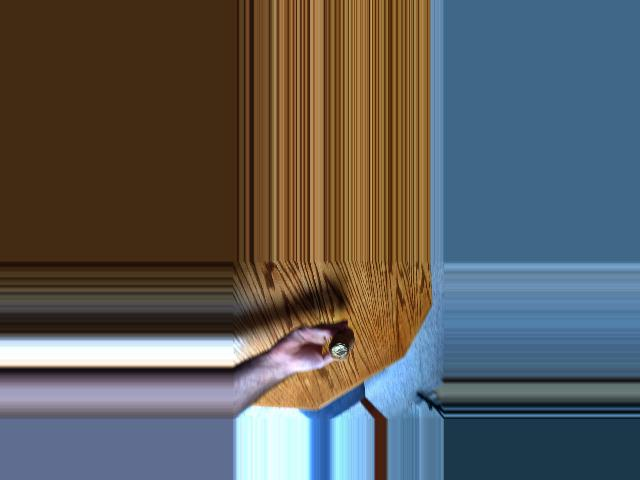sweet_potato: (320, 326, 358, 365)
